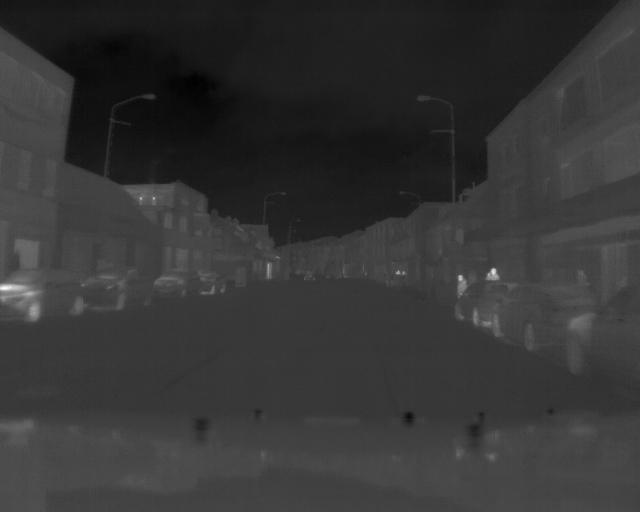car: (568, 278, 640, 388), (488, 278, 566, 351), (1, 265, 88, 320), (84, 260, 157, 310), (449, 282, 496, 326), (155, 259, 200, 302)
person: (200, 269, 229, 295), (454, 268, 467, 297), (482, 262, 501, 279)
